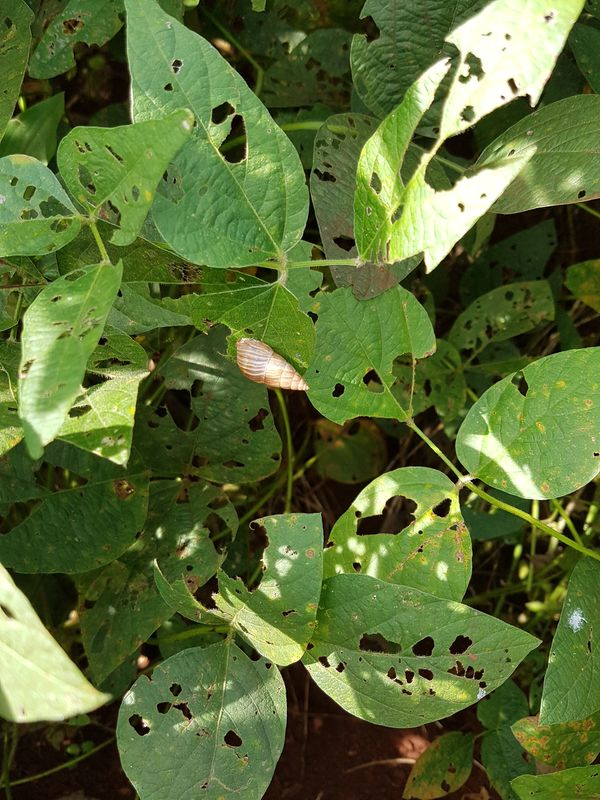Gastropoda: (217, 328, 324, 408)
